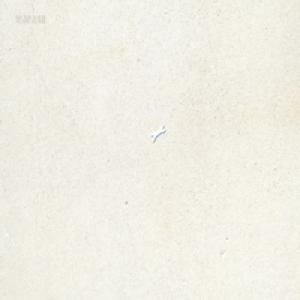Wrench: (150, 124, 166, 141)
